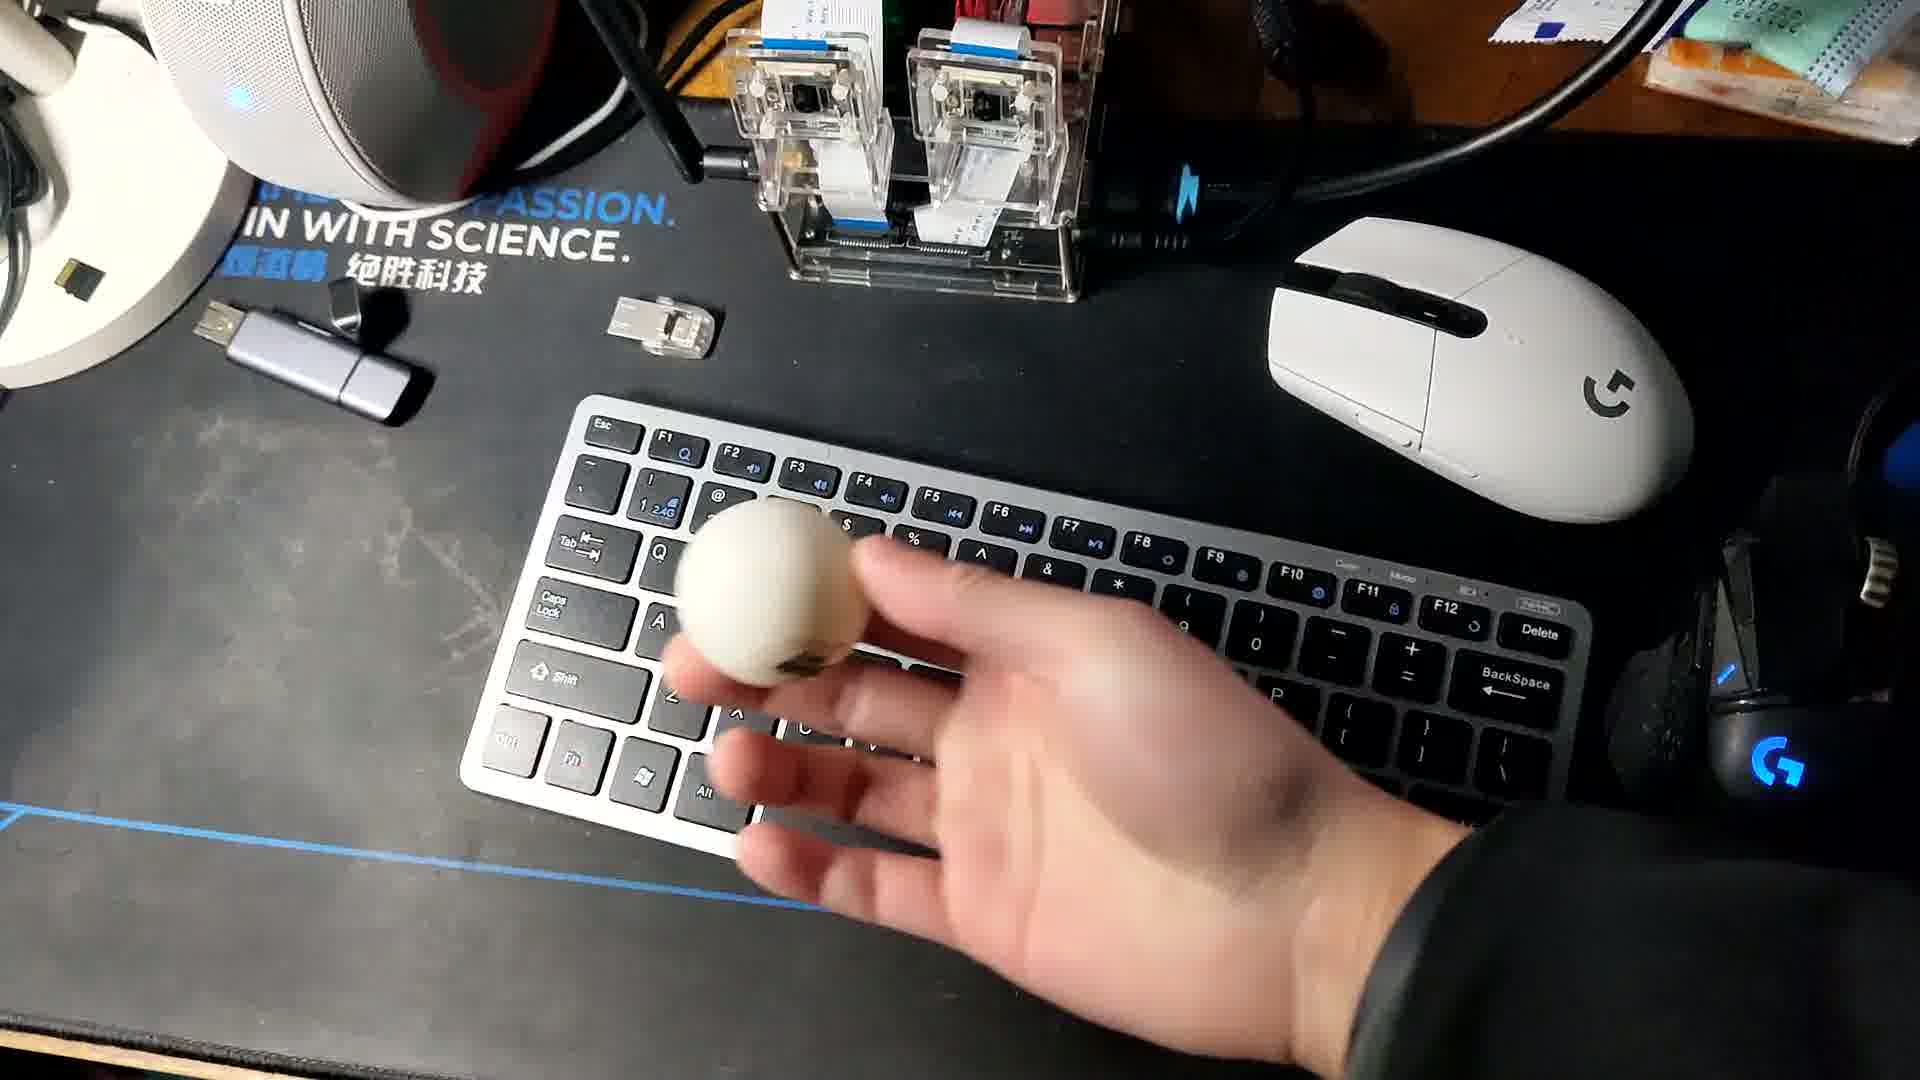Ball: (670, 496, 870, 686)
